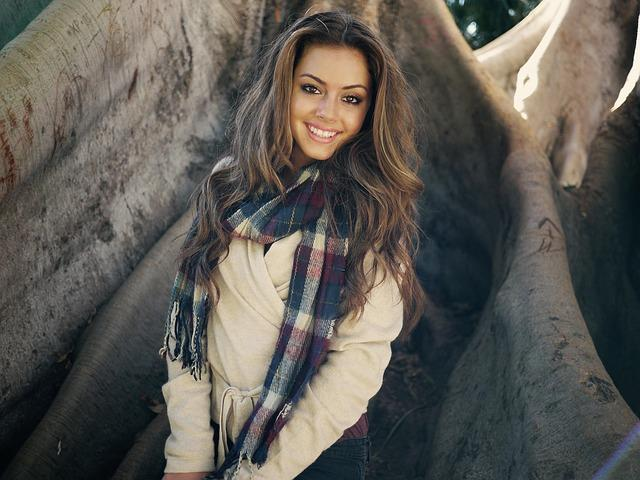Non_Gorille: (132, 0, 436, 473)
